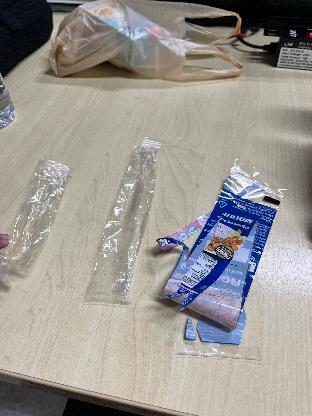Others: (166, 144, 290, 374), (82, 132, 166, 322), (0, 149, 74, 299)
